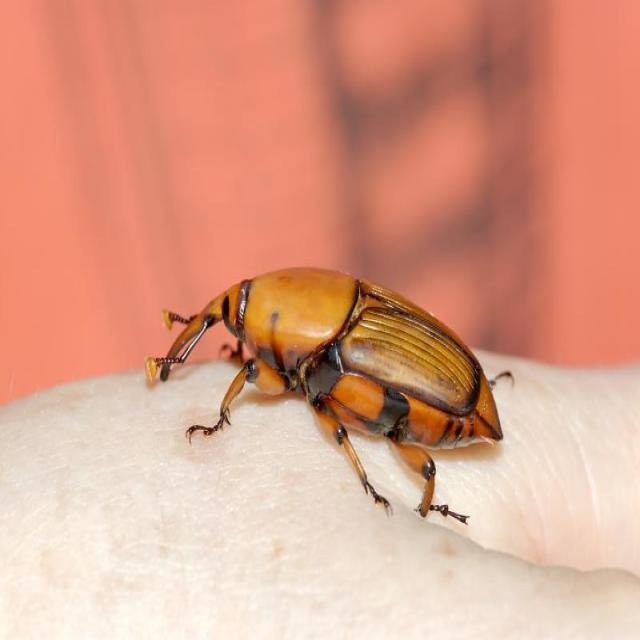Red-palm-weevil: (144, 253, 530, 532)
